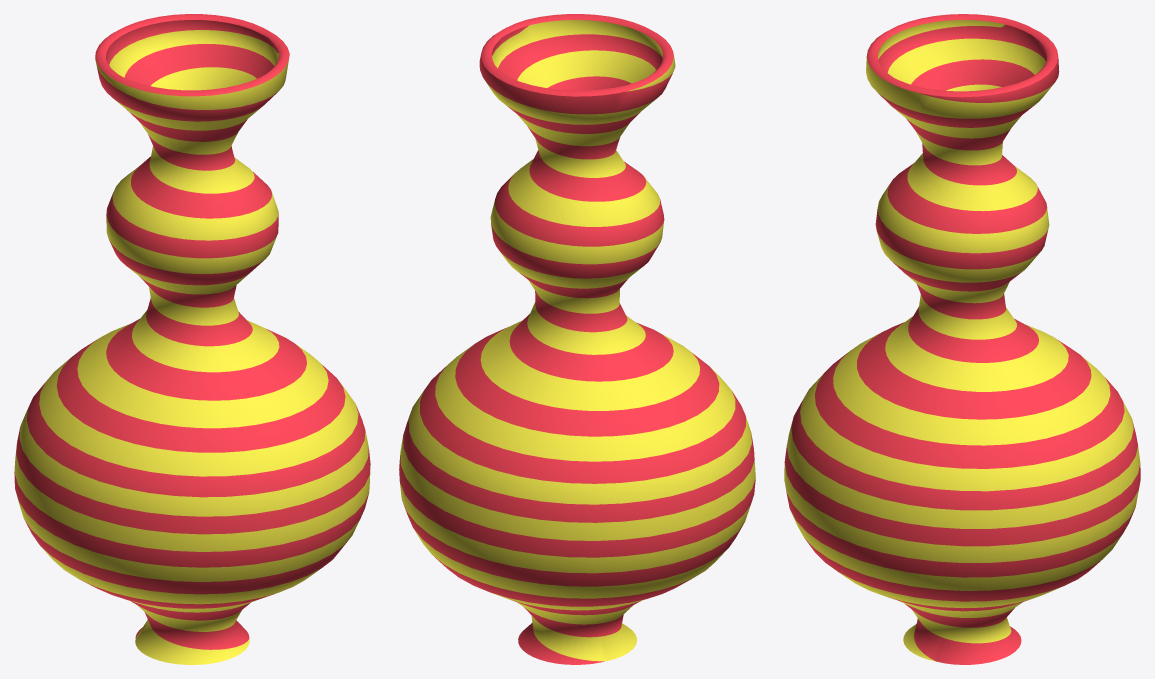
Rendered from Amfora_Gipnoze.FBX.
3 views of the same model, side by side, from view 1: azimuth 30°, elevation 25°; view 2: azimuth 150°, elevation 25°; view 3: azimuth 270°, elevation 25° (orthographic).
Visible parts, largest first — view 1: Helix001; view 2: Helix001; view 3: Helix001.
Part boxes in pixels (x1=…): Helix001: x1=14, y1=14, x2=370, y2=664; Helix001: x1=399, y1=14, x2=755, y2=664; Helix001: x1=784, y1=14, x2=1140, y2=664.
Size of the model in its own units: 95.15 by 173 by 95.09.
